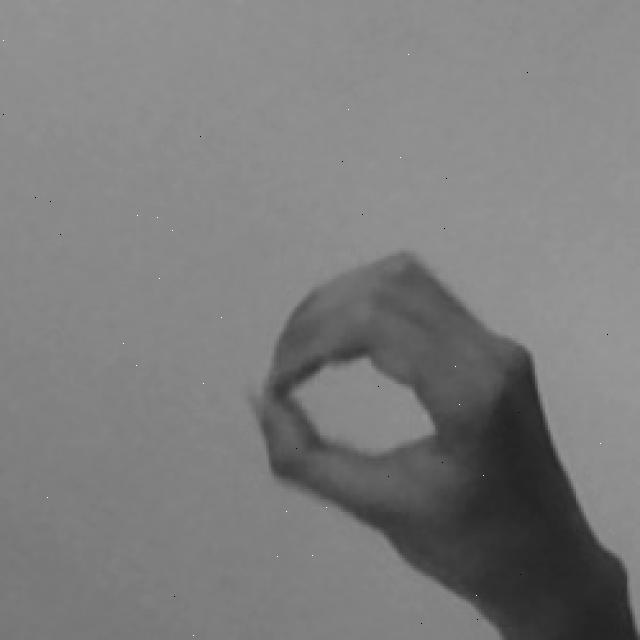O: (243, 240, 637, 640)
